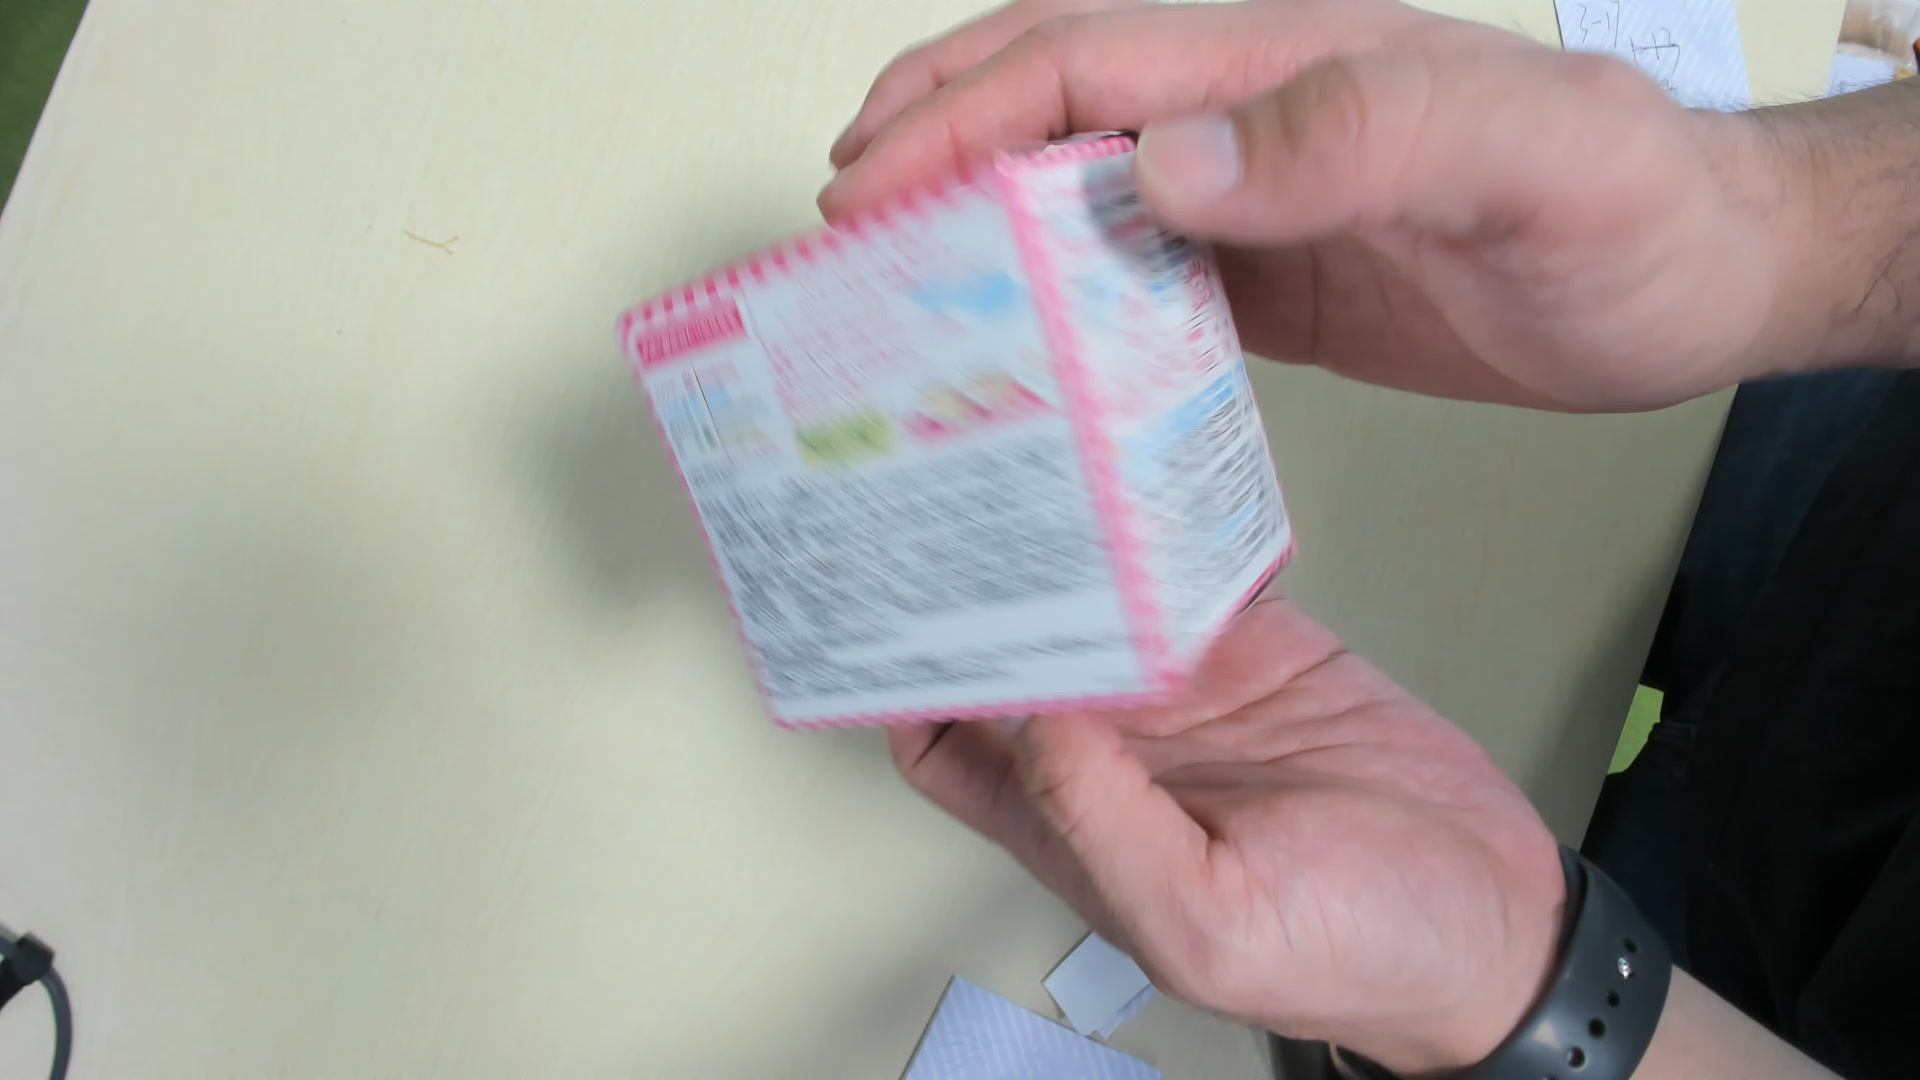InstantMeals_0-99g_NonHalal_NonHealthy: (615, 127, 1288, 733)
